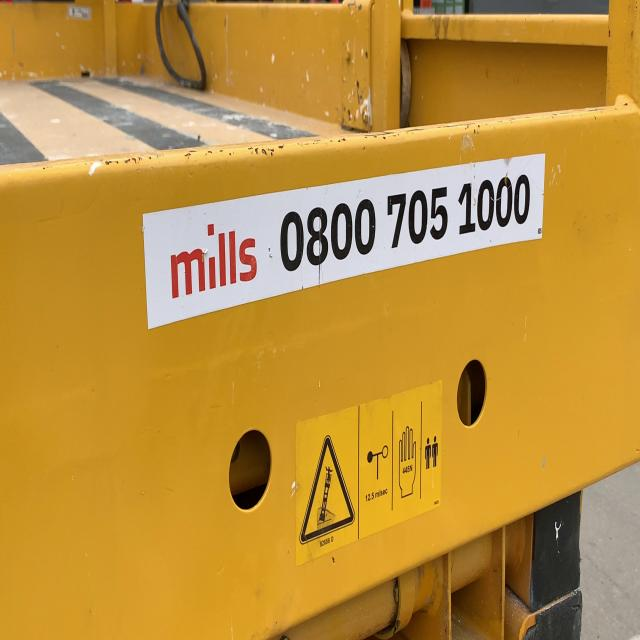Adesivo Longo: (140, 146, 547, 337)
